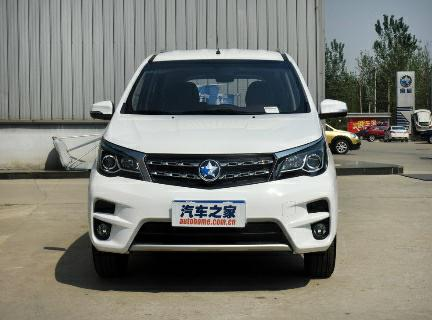启辰-M50V: (88, 50, 345, 274)
